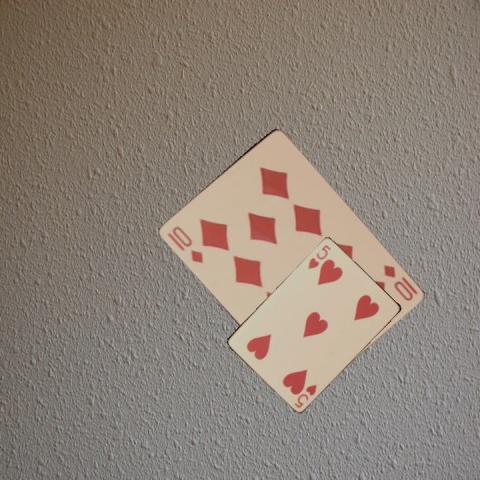10d: (380, 261, 419, 303), (169, 222, 204, 264)
5h: (305, 241, 332, 270), (291, 382, 318, 410)
